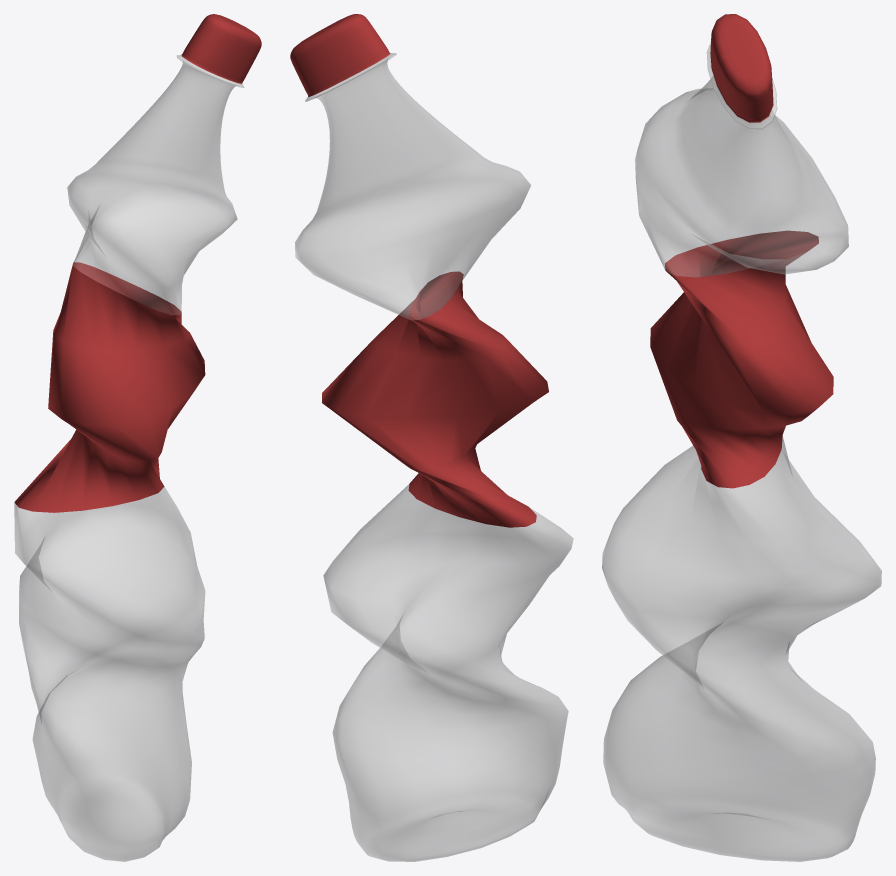
File: TwistedBottle.fbx
3 renders of one model, left to right at view 1: azimuth 30°, elevation 25°; view 2: azimuth 150°, elevation 25°; view 3: azimuth 270°, elevation 25°, orthographic. The views are drawn at different scales.
Visible parts, largest first — view 1: pCube7; view 2: pCube7; view 3: pCube7.
Boxes of the visible parts, <box> form: pCube7: <box>14,14,261,861</box>; pCube7: <box>290,14,573,861</box>; pCube7: <box>602,14,881,861</box>.
Bounding box in the file's own units: 3.37 × 9.89 × 2.87.
